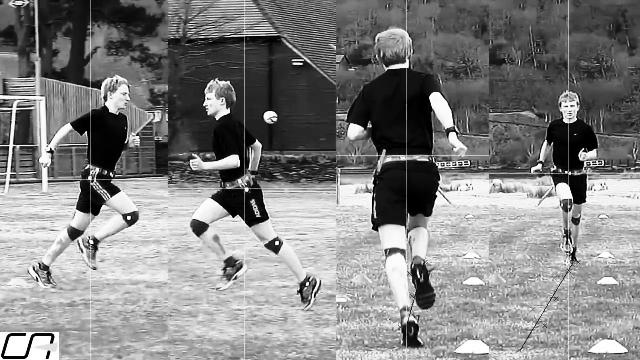berlari: (341, 24, 469, 351), (182, 76, 322, 316), (16, 62, 146, 292), (528, 82, 606, 272)
